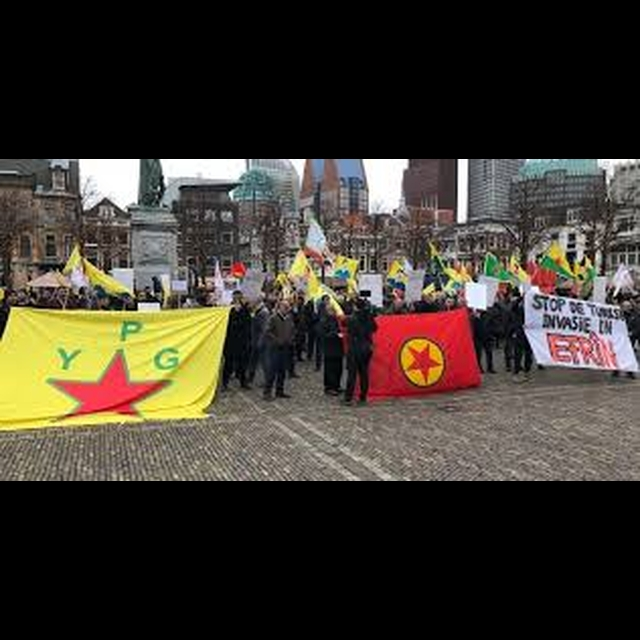PKK: (398, 330, 445, 393)
YPG: (40, 318, 185, 418)
